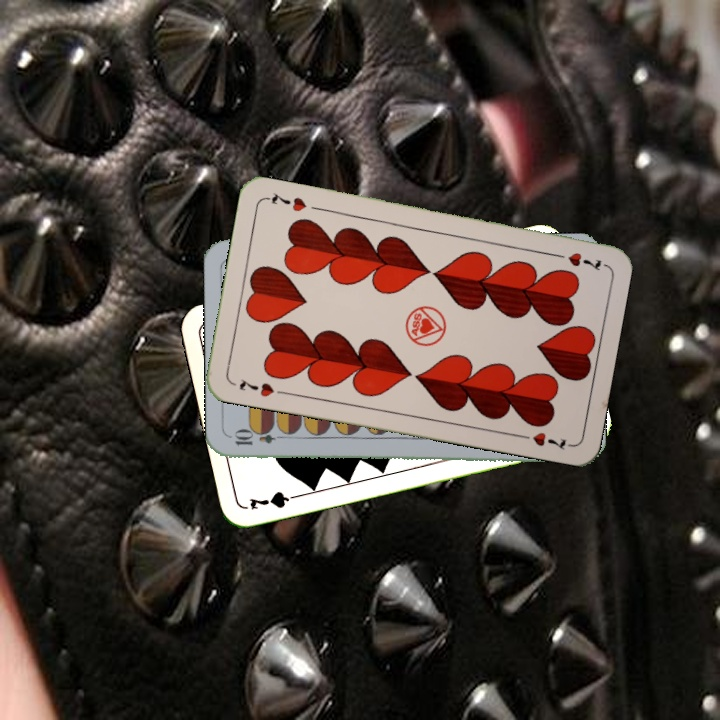E10: (230, 429, 289, 448)
G7: (245, 487, 304, 512)
H7: (548, 248, 607, 273), (235, 375, 288, 400)
